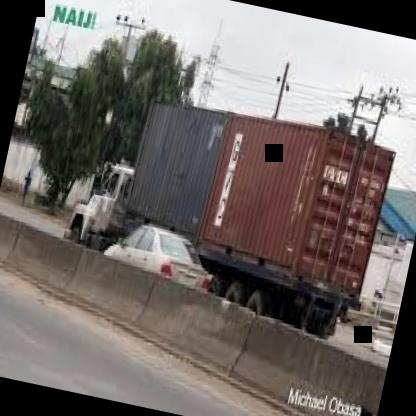car: (85, 172, 227, 328)
